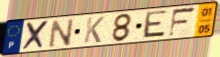8: (110, 12, 134, 43)
E: (140, 9, 170, 40)
F: (167, 6, 198, 39)
K: (82, 16, 106, 44)
N: (48, 17, 76, 50)
X: (21, 19, 51, 52)
